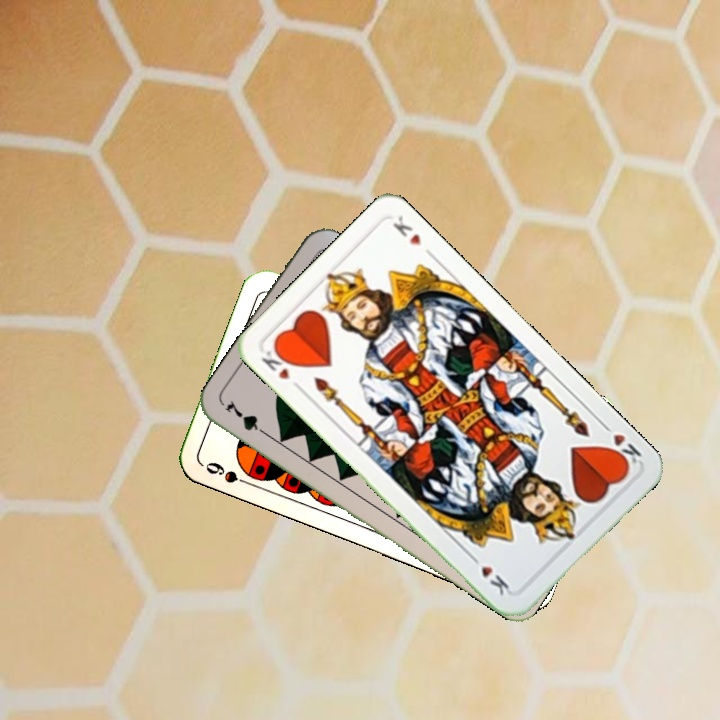G7: (220, 396, 273, 440)
HK: (597, 418, 645, 471), (257, 341, 305, 393)
S9: (201, 458, 257, 489)
